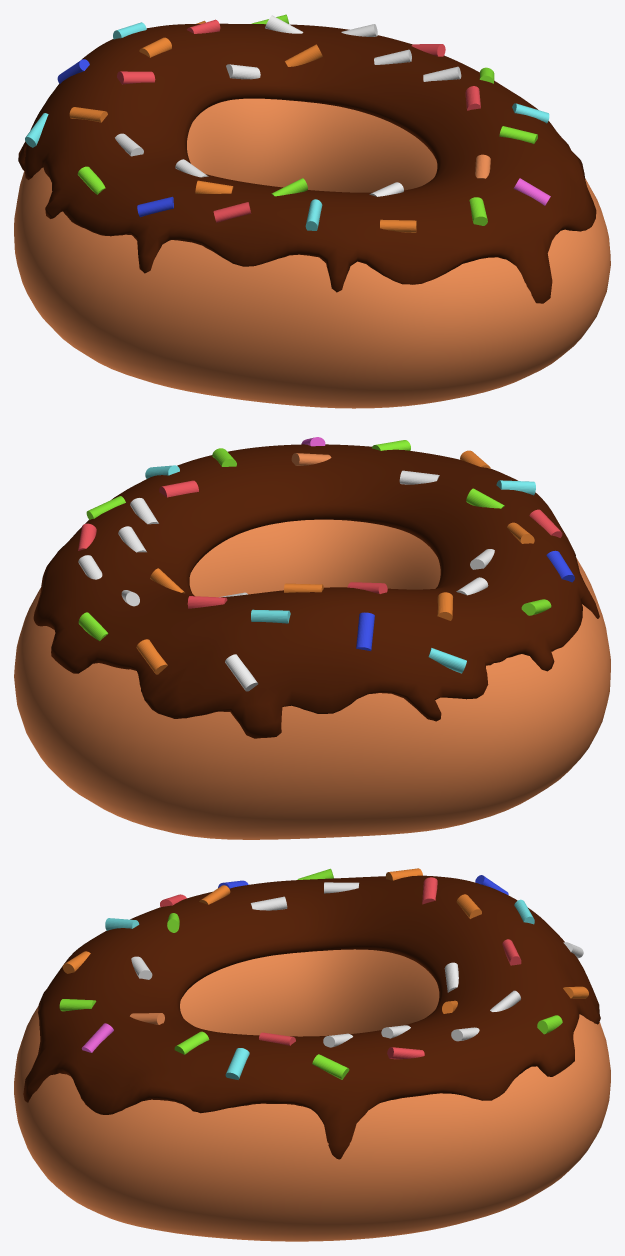
Rendered from donut.glb.
The picture shows the model from 3 angles, top to bottom: view 1: azimuth 30°, elevation 25°; view 2: azimuth 150°, elevation 25°; view 3: azimuth 270°, elevation 25°; orthographic projection. The views are drawn at different scales.
Parts seen in each view (by area): view 1: object 1, object 2, Cylinder_2; view 2: object 2, object 1, Cylinder_2; view 3: object 1, object 2, Cylinder_2.
Boxes of the visible parts, box(x1,y1,x2,y2) form: object 1: box(14, 98, 610, 408); object 2: box(18, 23, 596, 303); Cylinder_2: box(25, 14, 550, 232); object 2: box(33, 444, 599, 738); object 1: box(14, 519, 610, 839); Cylinder_2: box(78, 437, 574, 691); object 1: box(14, 949, 610, 1241); object 2: box(23, 875, 600, 1159); Cylinder_2: box(59, 868, 588, 1079).
Size of the model in its own units: 2.72 by 1.25 by 2.96.
